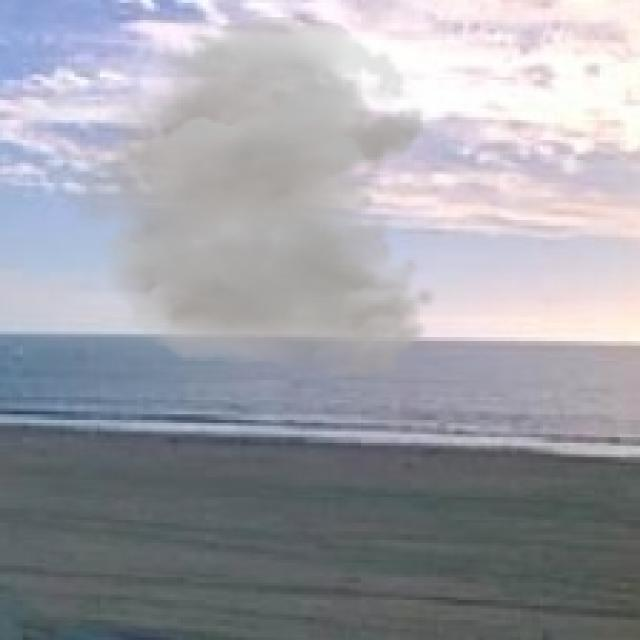smoke: (52, 17, 437, 380)
